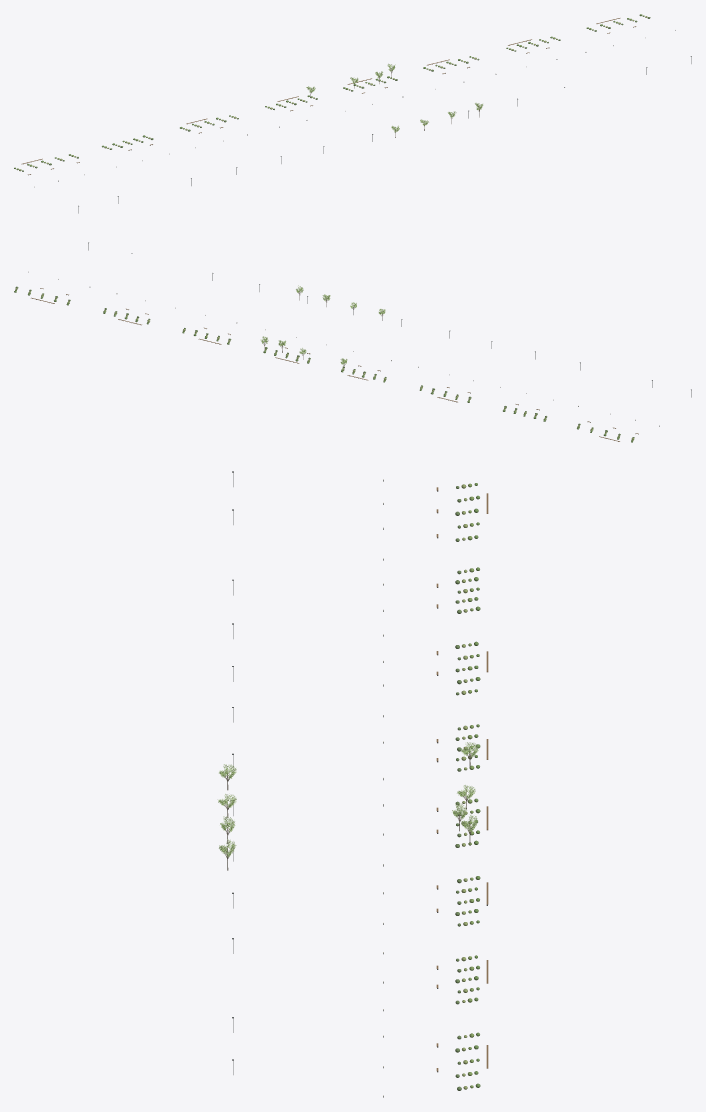
The model's file is 20261103-public-planting-2.glb.
3 views of the same model, one above another, from view 1: azimuth 30°, elevation 25°; view 2: azimuth 150°, elevation 25°; view 3: azimuth 270°, elevation 25° (orthographic). The views are drawn at different scales.
Bounding box in the file's own units: 421 × 9.45 × 78.16.
